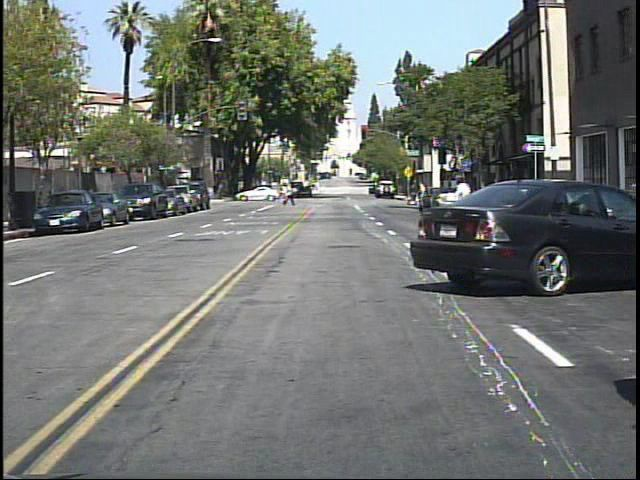person: (449, 164, 481, 247), (525, 169, 544, 222), (285, 177, 300, 210)
